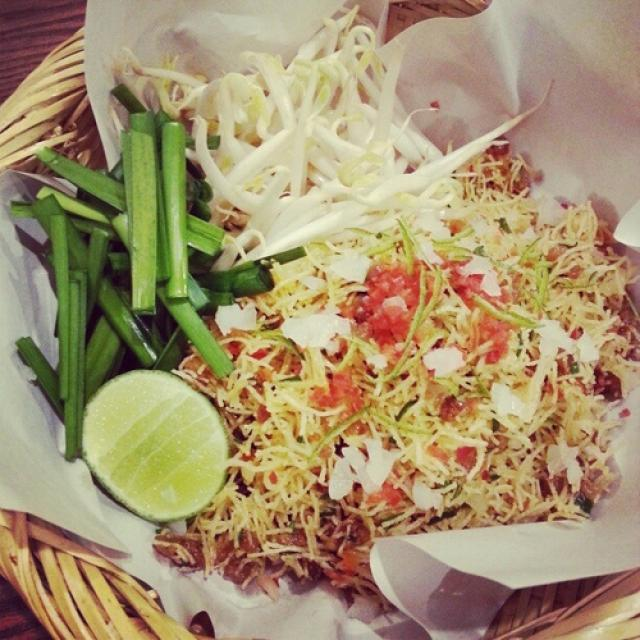面条主食: (118, 130, 635, 570)
